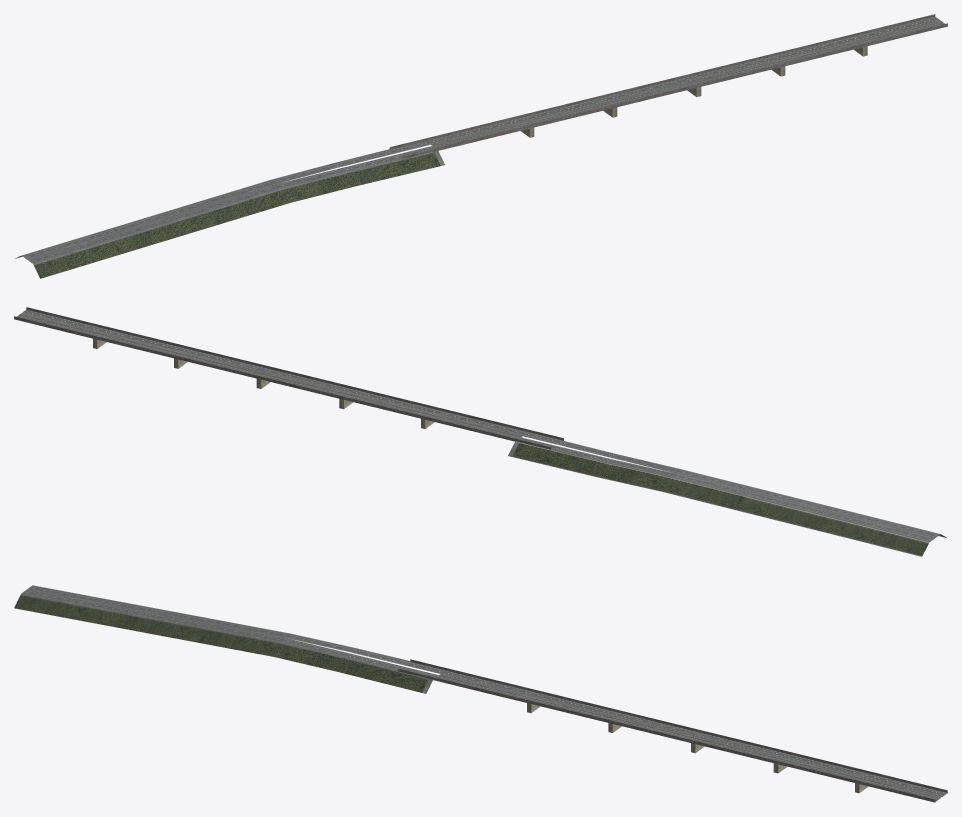
3 renders of one model, top to bottom at view 1: azimuth 30°, elevation 25°; view 2: azimuth 150°, elevation 25°; view 3: azimuth 330°, elevation 25°, orthographic.
Visible parts, largest first — view 1: 立方体.010, 立方体.001, 立方体.008, 立方体.002, 立方体.006, 立方体.009; view 2: 立方体.010, 立方体.006, 立方体.002, 立方体.001, 立方体.008, 立方体.009; view 3: 立方体.010, 立方体.001, 立方体.008, 立方体.002, 立方体.006, 立方体.009.
Boxes of the visible parts, x1,y1,x2,y2 form: 立方体.010: (15,141,444,278); 立方体.001: (426,16,940,144); 立方体.008: (402,23,947,159); 立方体.002: (389,14,935,149); 立方体.006: (433,22,944,150); 立方体.009: (431,20,942,146); 立方体.010: (508,432,946,556); 立方体.006: (22,309,527,435); 立方体.002: (14,316,551,449); 立方体.001: (15,314,521,438); 立方体.008: (26,307,563,440); 立方体.009: (20,313,522,436); 立方体.010: (14,585,445,693); 立方体.001: (441,670,947,796); 立方体.008: (398,668,935,802); 立方体.002: (410,659,947,793); 立方体.006: (433,675,940,801); 立方体.009: (439,674,941,797).
Bounding box in the file's own units: 44.33 × 0.9318 × 2.92.
3 materials, 3 textured.
